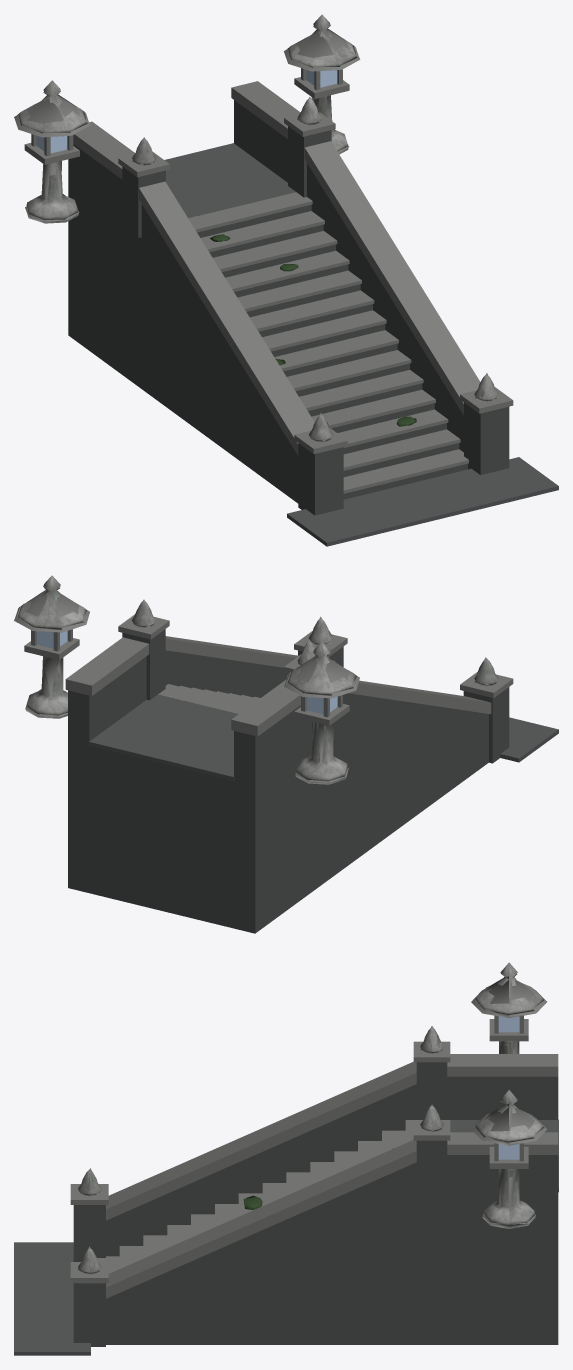
The model's file is prop_stairs_medium.gltf.
3 views of the same model, one above another, from view 1: azimuth 30°, elevation 25°; view 2: azimuth 150°, elevation 25°; view 3: azimuth 270°, elevation 25° (orthographic). The views are drawn at different scales.
Parts seen in each view (by area): view 1: Far, Near; view 2: Far, Near; view 3: Far, Near.
Part boxes in pixels (left/top/right/bottom): Far: left=14, top=26, right=558, bottom=546; Near: left=17, top=14, right=498, bottom=442; Far: left=14, top=588, right=558, bottom=933; Near: left=16, top=575, right=498, bottom=784; Far: left=14, top=973, right=558, bottom=1355; Near: left=78, top=962, right=546, bottom=1274.
Size of the model in its own units: 5.39 by 4.33 by 7.77.
Materials: 7 (4 with a texture image).
